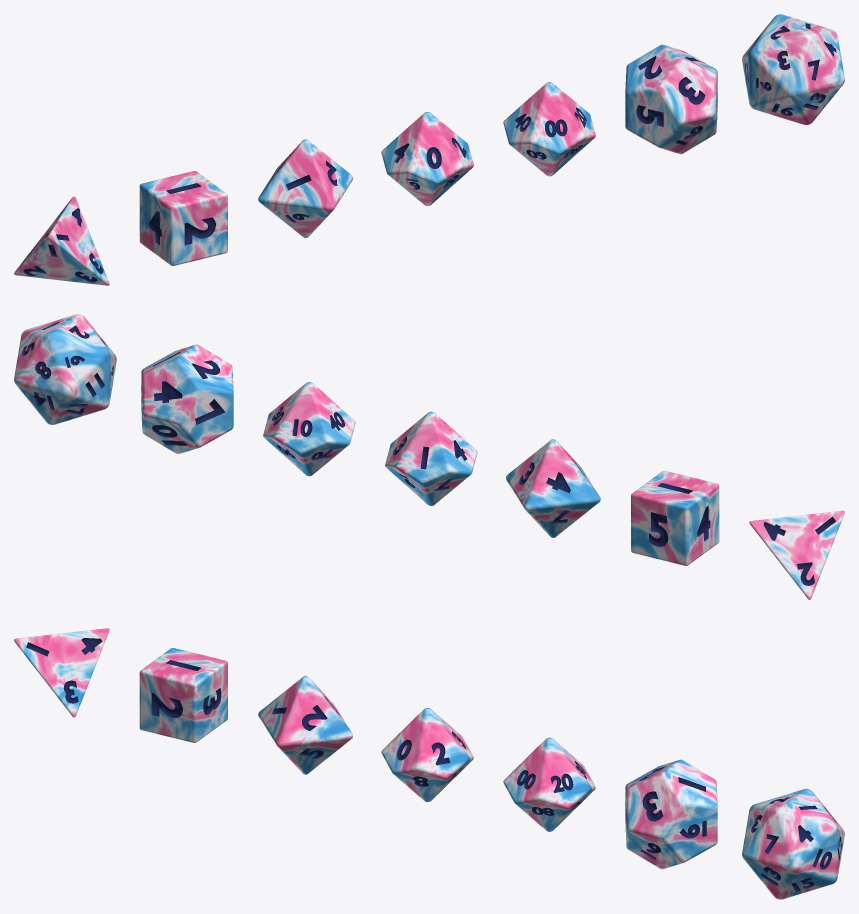
The model's file is bubblegum.glb.
The picture shows the model from 3 angles, top to bottom: view 1: azimuth 30°, elevation 25°; view 2: azimuth 150°, elevation 25°; view 3: azimuth 330°, elevation 25°; orthographic projection.
Visible parts, largest first — view 1: d20, d12, d6, d100, d10, d8, d4; view 2: d20, d12, d6, d100, d10, d8, d4; view 3: d20, d12, d6, d8, d10, d100, d4.
Part boxes in pixels (bbox=[...]): d20: bbox=[742, 14, 844, 125]; d12: bbox=[625, 44, 717, 154]; d6: bbox=[139, 171, 227, 265]; d100: bbox=[503, 82, 595, 176]; d10: bbox=[381, 111, 473, 205]; d8: bbox=[258, 139, 352, 238]; d4: bbox=[14, 196, 109, 285]; d20: bbox=[14, 314, 116, 424]; d12: bbox=[141, 344, 233, 453]; d6: bbox=[631, 470, 719, 565]; d100: bbox=[263, 382, 355, 476]; d10: bbox=[385, 411, 477, 505]; d8: bbox=[506, 439, 600, 537]; d4: bbox=[749, 510, 844, 599]; d20: bbox=[742, 788, 844, 899]; d12: bbox=[625, 759, 717, 869]; d6: bbox=[139, 648, 227, 742]; d8: bbox=[258, 675, 352, 774]; d10: bbox=[381, 708, 473, 802]; d100: bbox=[503, 737, 595, 831]; d4: bbox=[14, 628, 109, 717].
Bounding box in the file's own units: 21.14 × 2.46 × 2.46.
14 materials, 7 textured.
